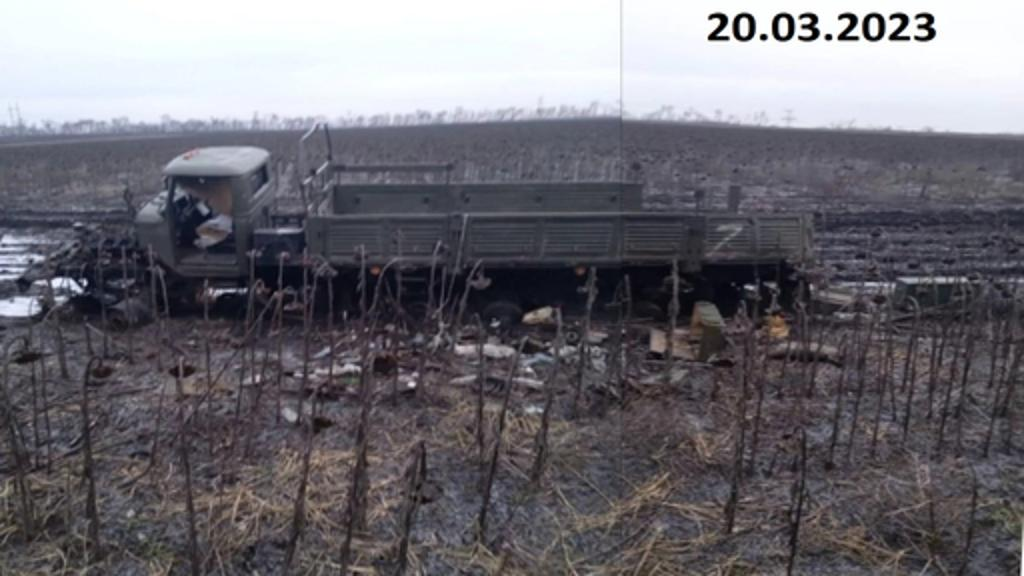TRUCK: (22, 124, 816, 334)
